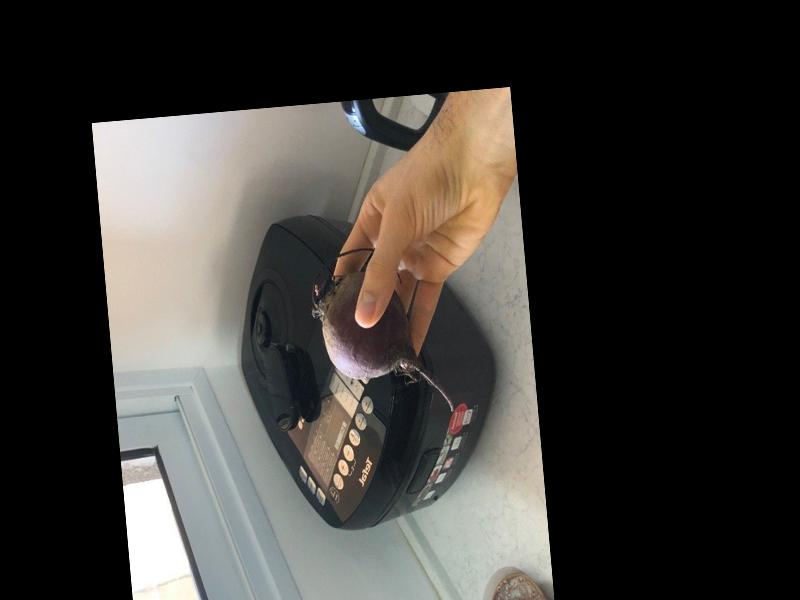Beet: (306, 243, 456, 422)
